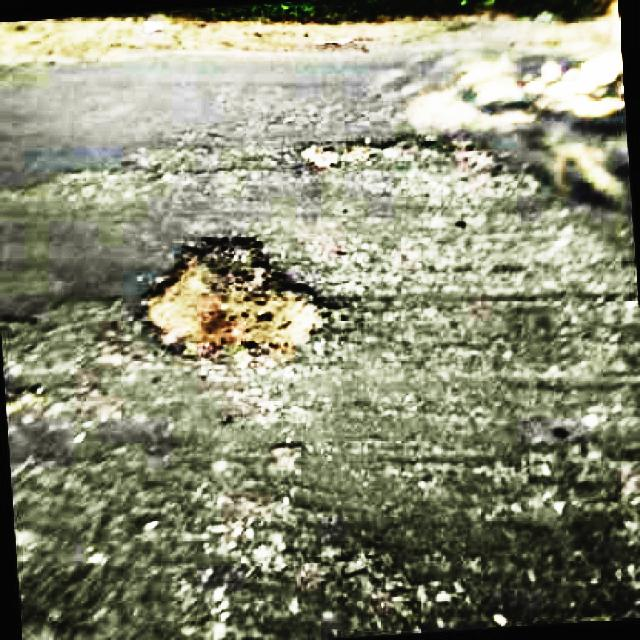pothole: (140, 229, 329, 360), (295, 128, 428, 172)
